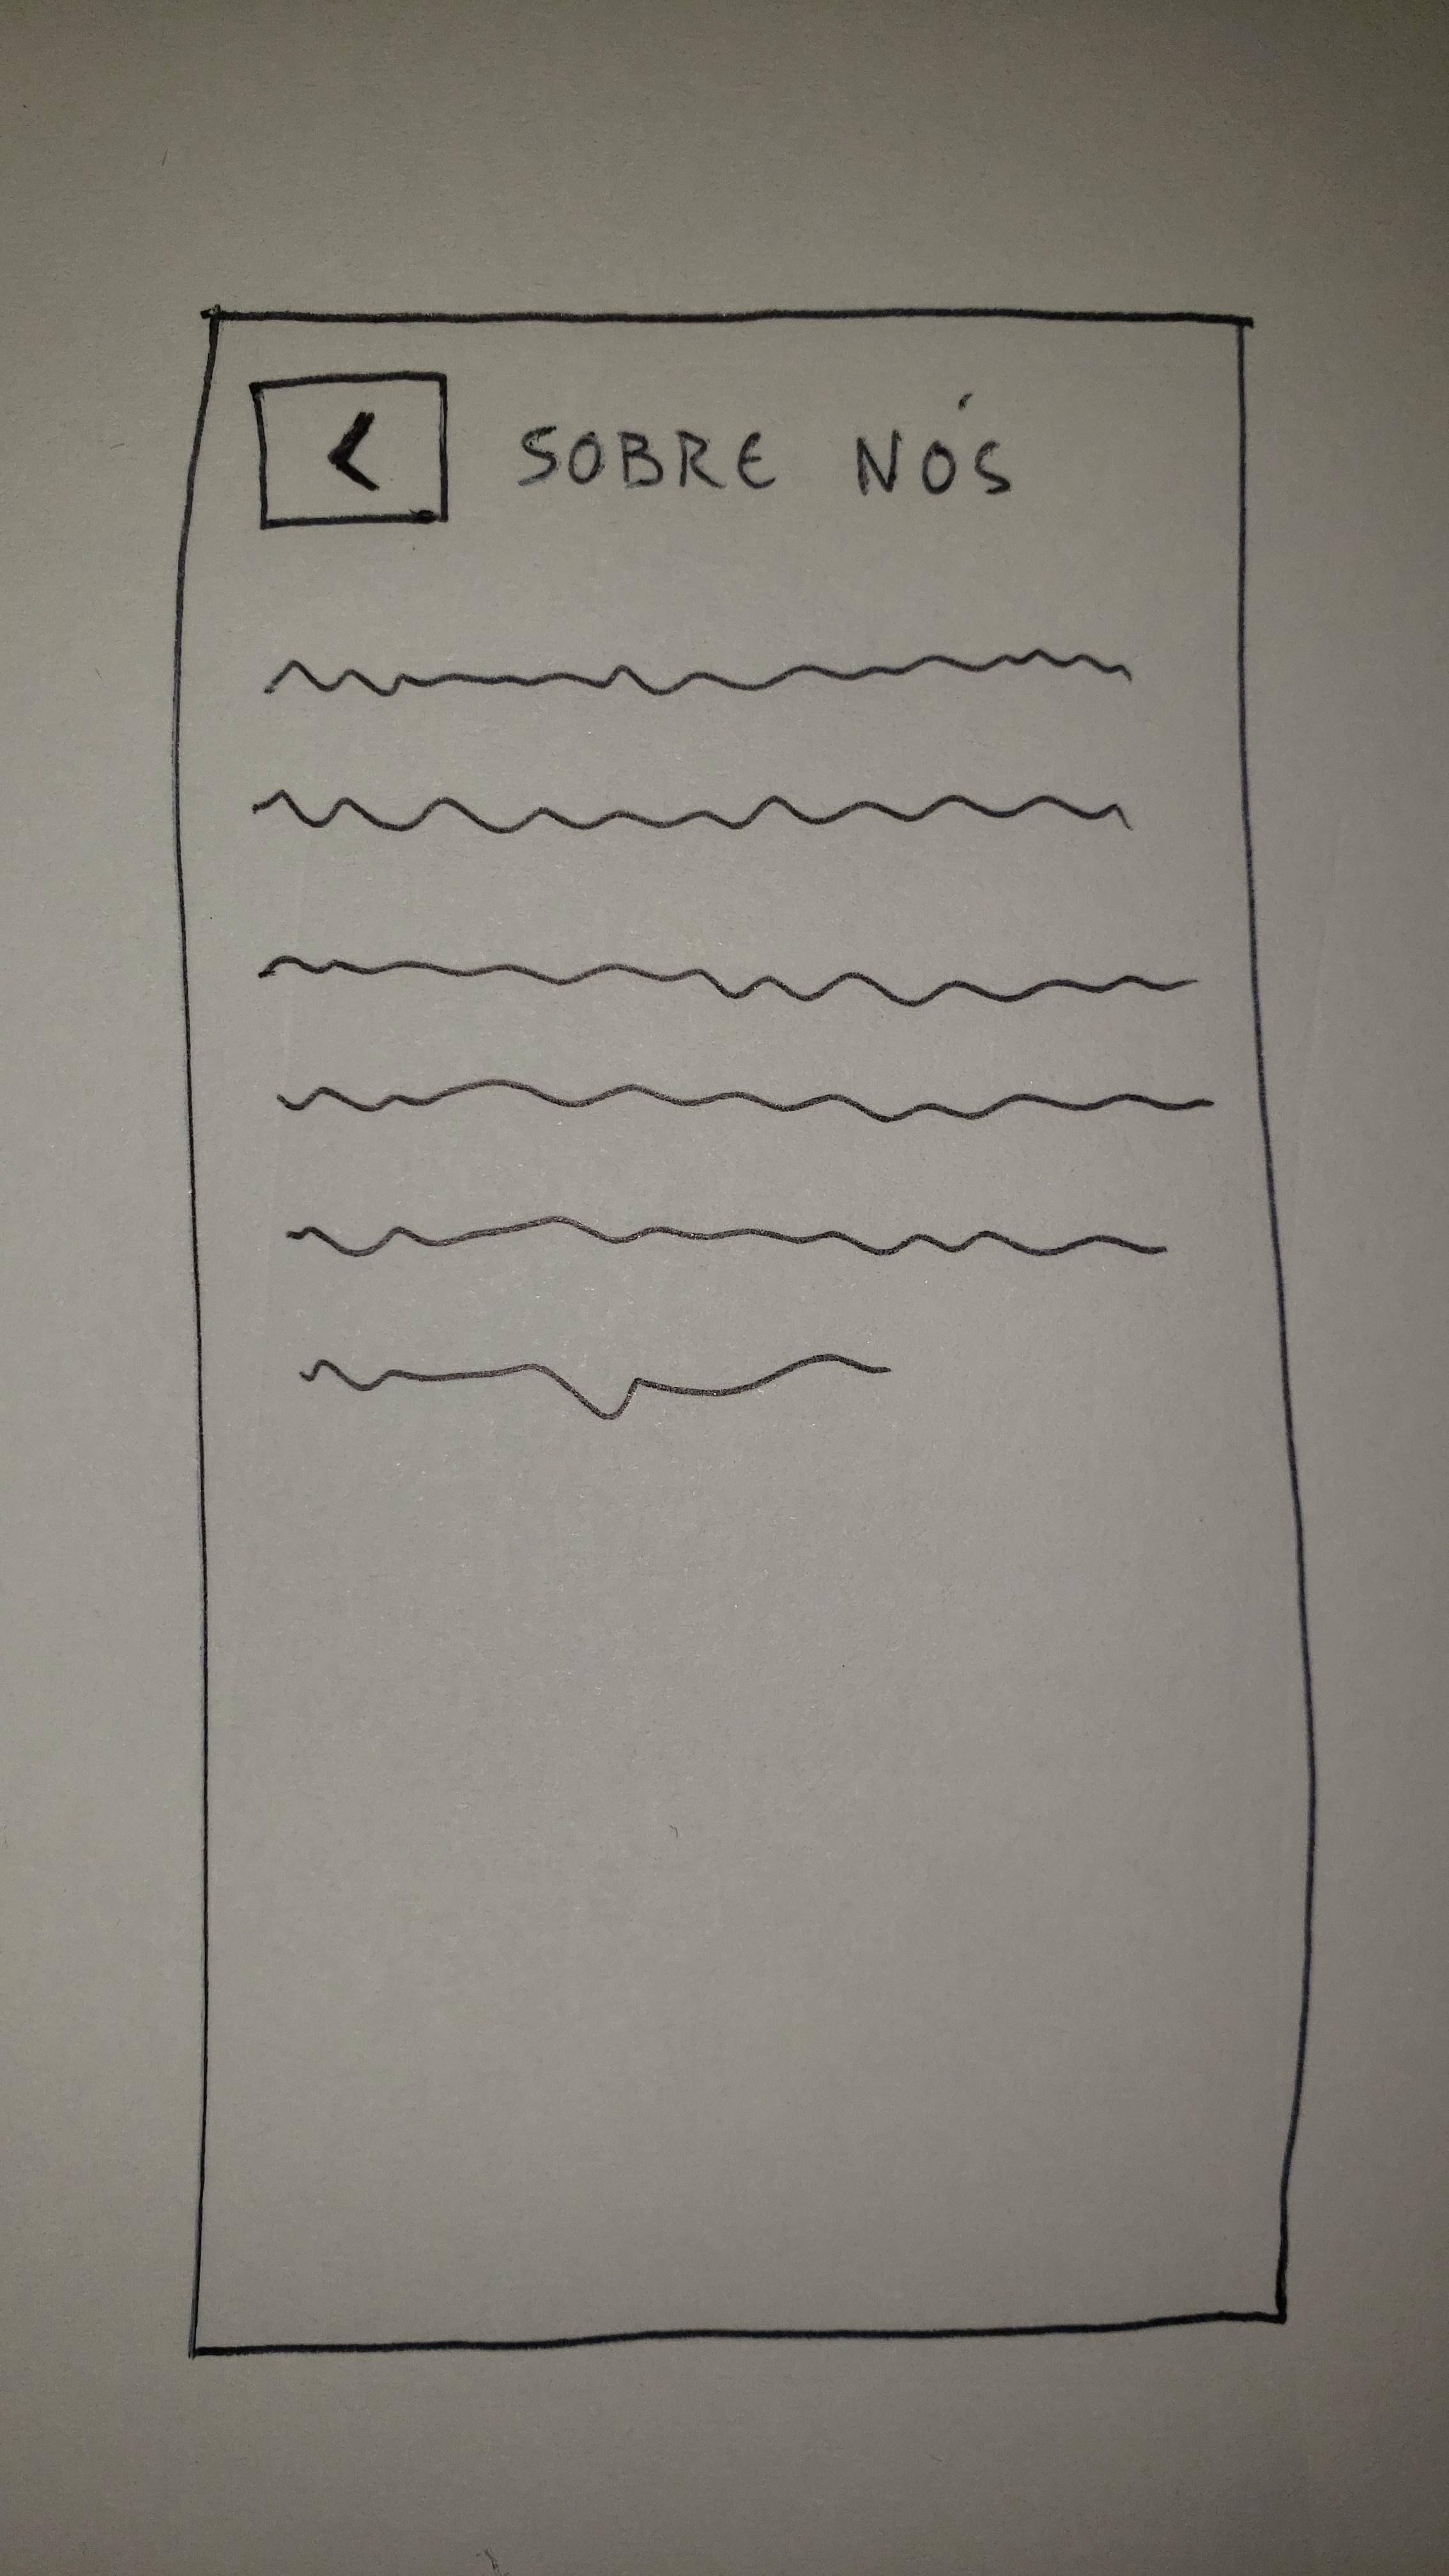Button: (251, 370, 451, 527)
Label: (249, 640, 1217, 1419), (517, 389, 1014, 502)
Screen: (170, 306, 1316, 2360)
